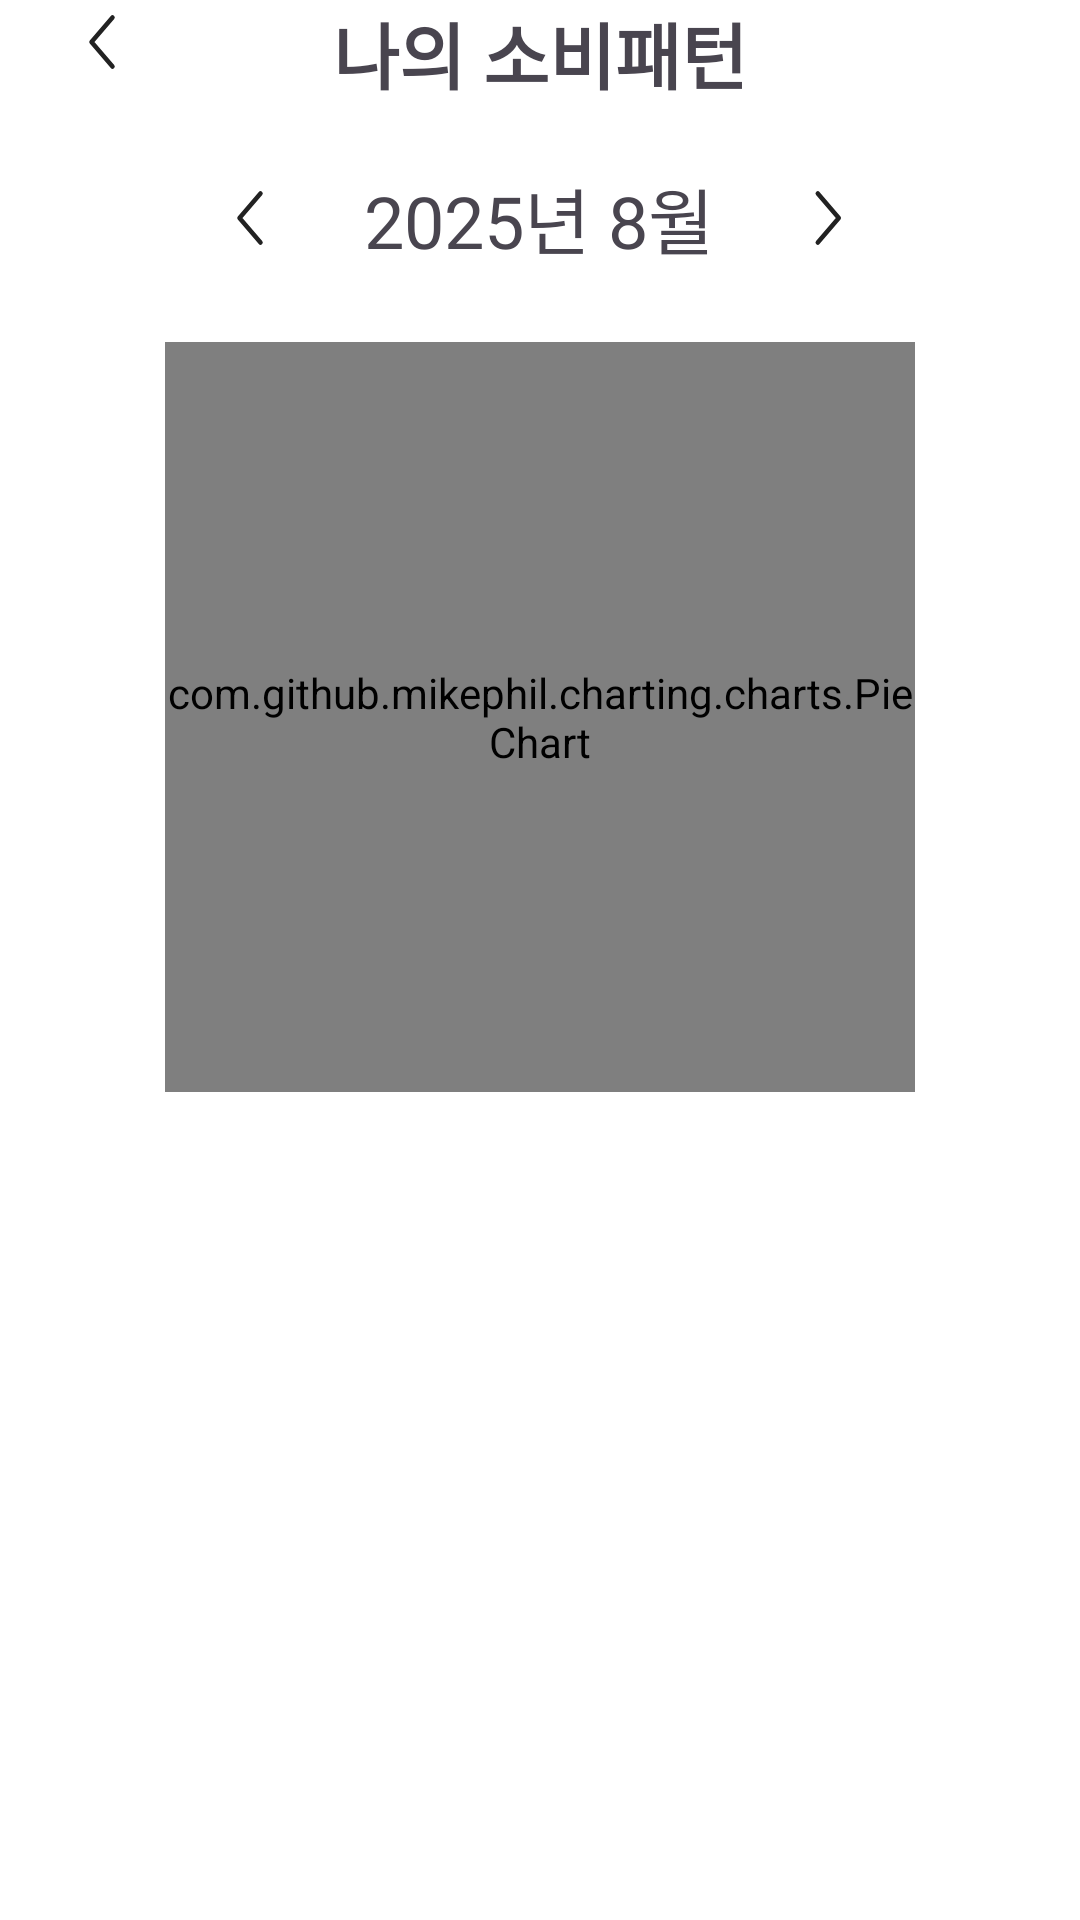

Icon click points for this 1080w x 1920h phone screenshot, format point (x, y):
back: point (102, 42), point (250, 218)
